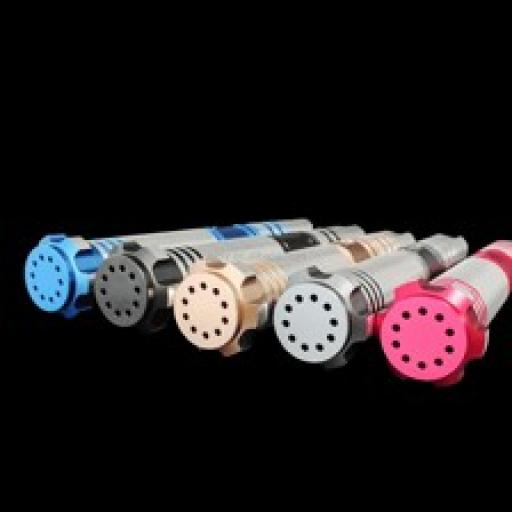lightsaber: (176, 232, 414, 354), (27, 218, 313, 318), (95, 227, 363, 323), (275, 232, 468, 362), (380, 240, 512, 383)
